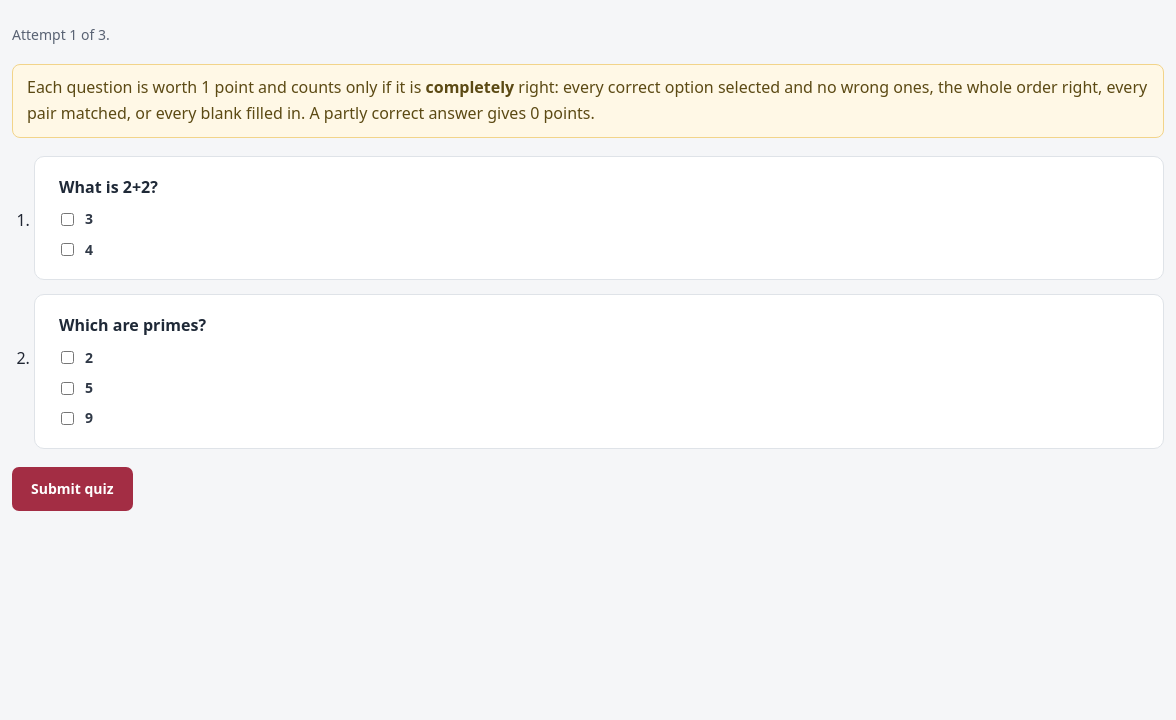
Test: QuizTaker › shows the grade automatically once the attempt has been graded
Later steps or results of the test are not shown.
Click the checkbox labelled "4".
click(68, 250)  # box [61, 243, 74, 256]
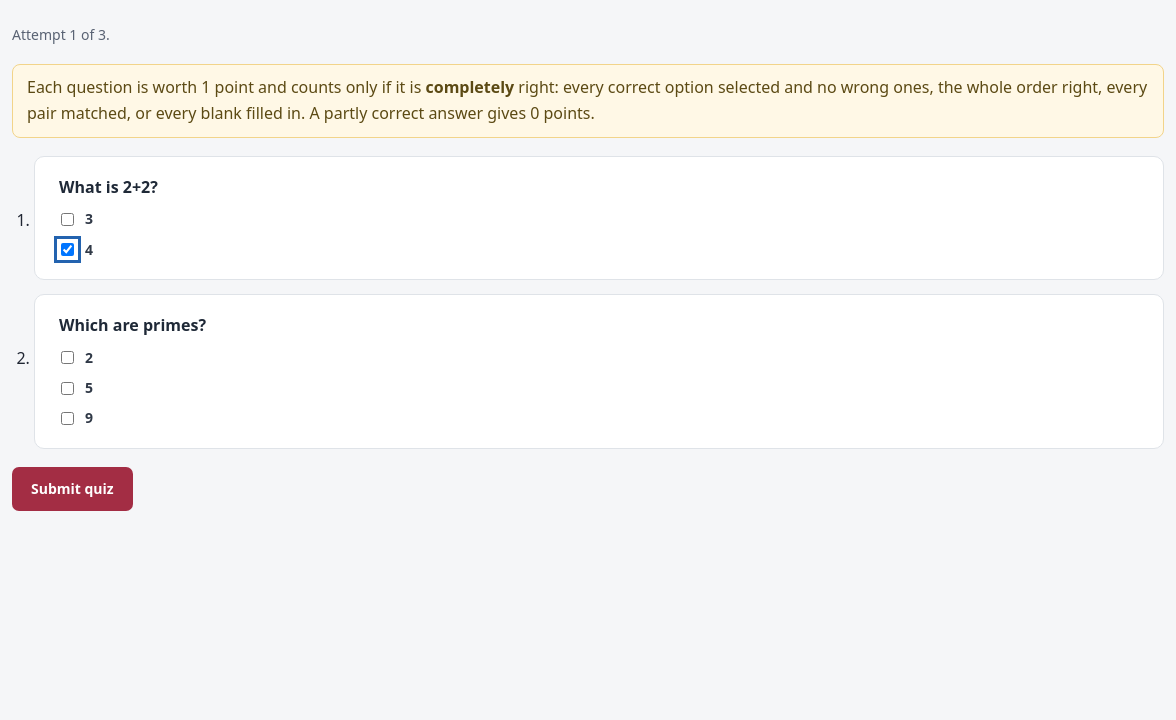
Click the button "Submit quiz".
click(72, 489)  # box [12, 467, 133, 511]
Wait 1100 ms
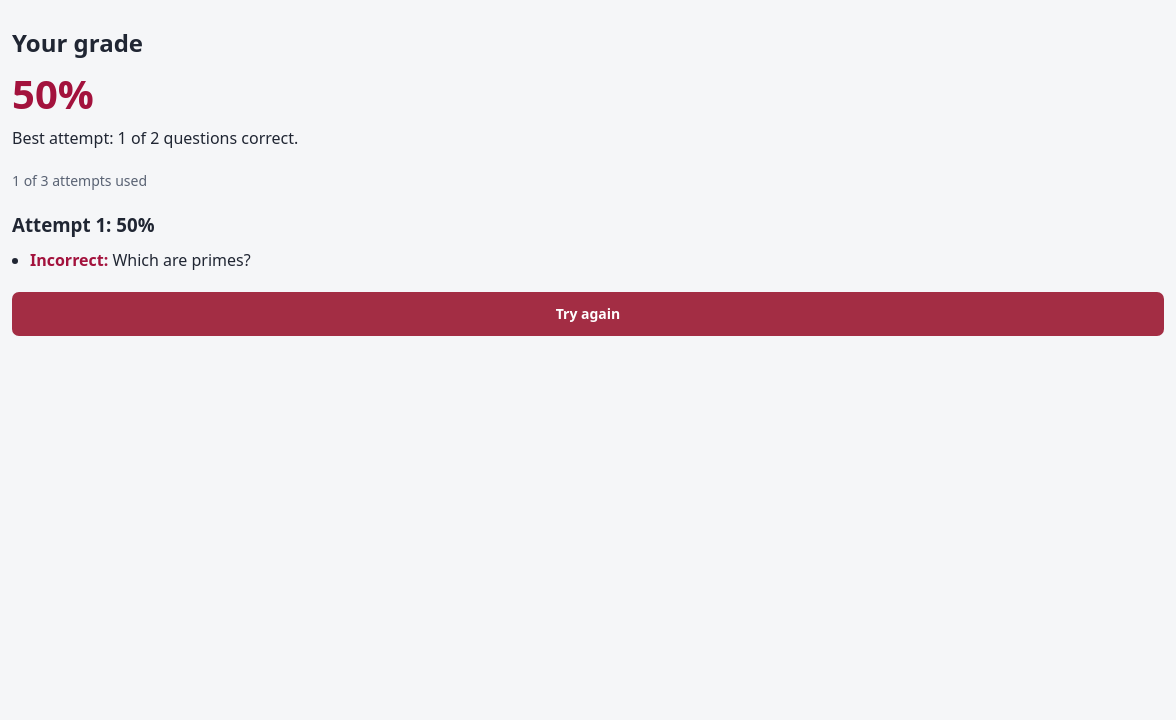
Check: the heading "Attempt 1: 50%" is shown, box [12, 212, 154, 237]
Check: the text "1 of 3 attempts used" is shown, box [12, 171, 147, 190]
Check: the list item "Which are primes?" is shown, box [112, 249, 251, 271]
